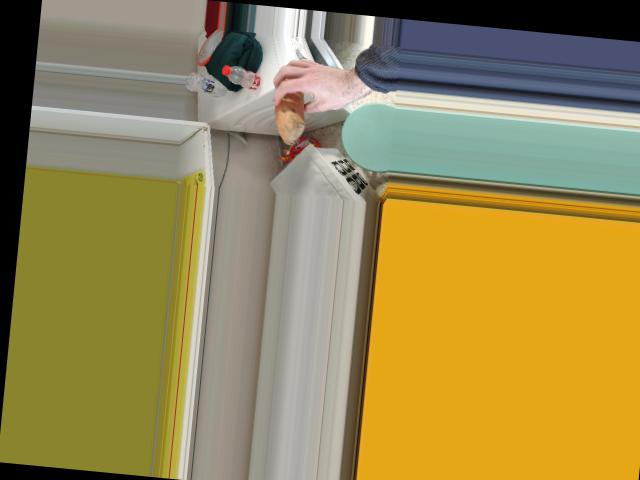sweet_potato: (275, 80, 315, 130)
